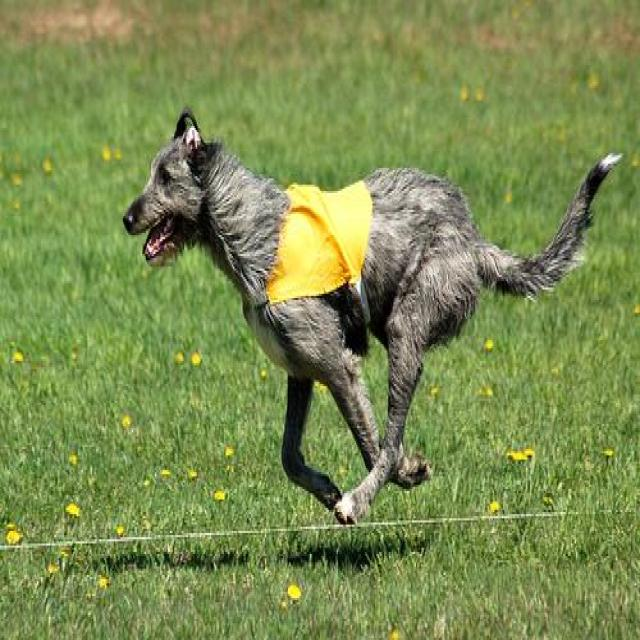dog: (121, 74, 628, 542)
